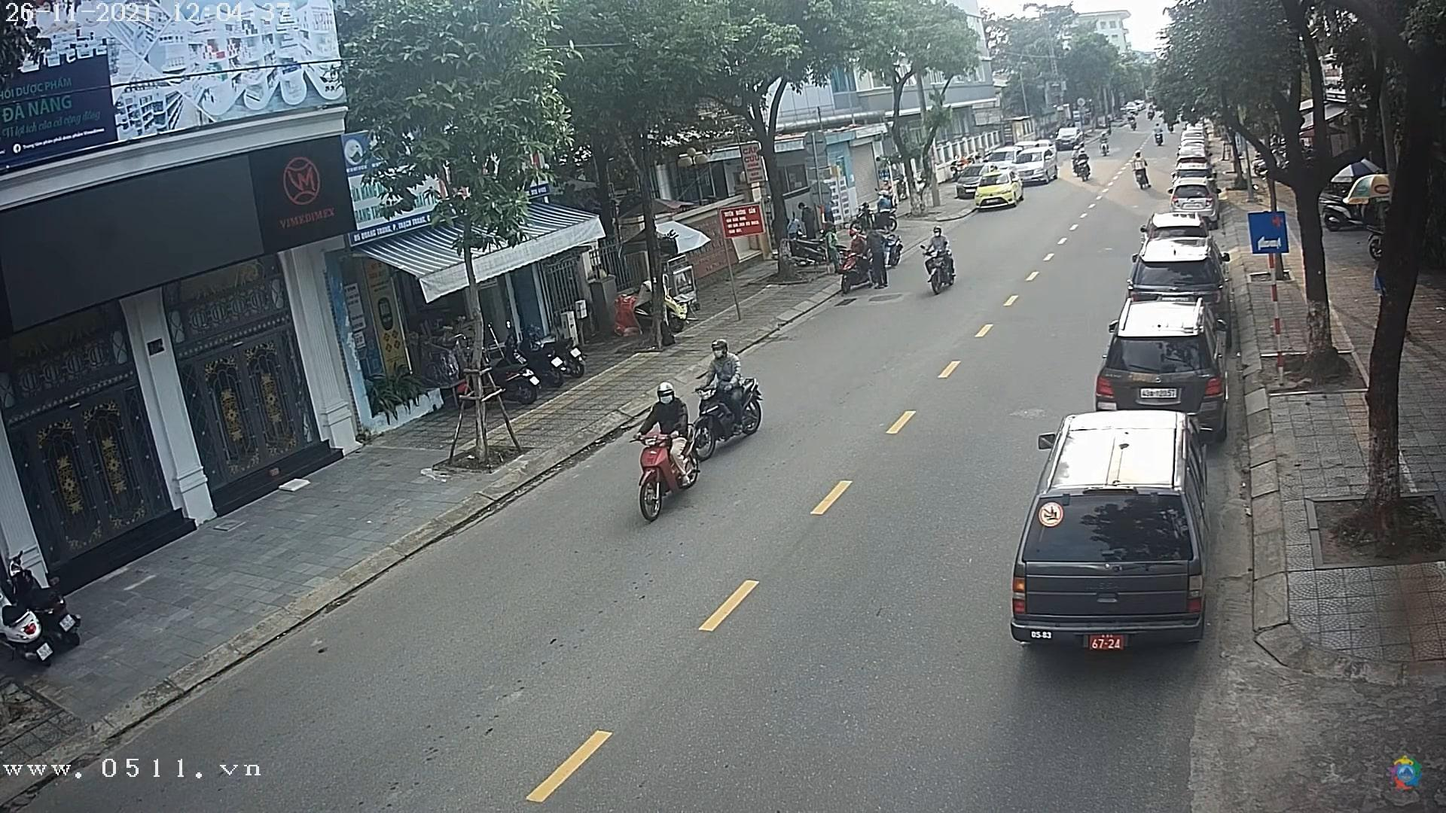car: (1002, 403, 1218, 662), (1096, 298, 1228, 422), (1130, 237, 1228, 303), (1168, 183, 1217, 218), (1168, 159, 1213, 181), (1059, 126, 1086, 147)
motorbike: (633, 426, 706, 528), (690, 377, 769, 460), (927, 251, 961, 298)
